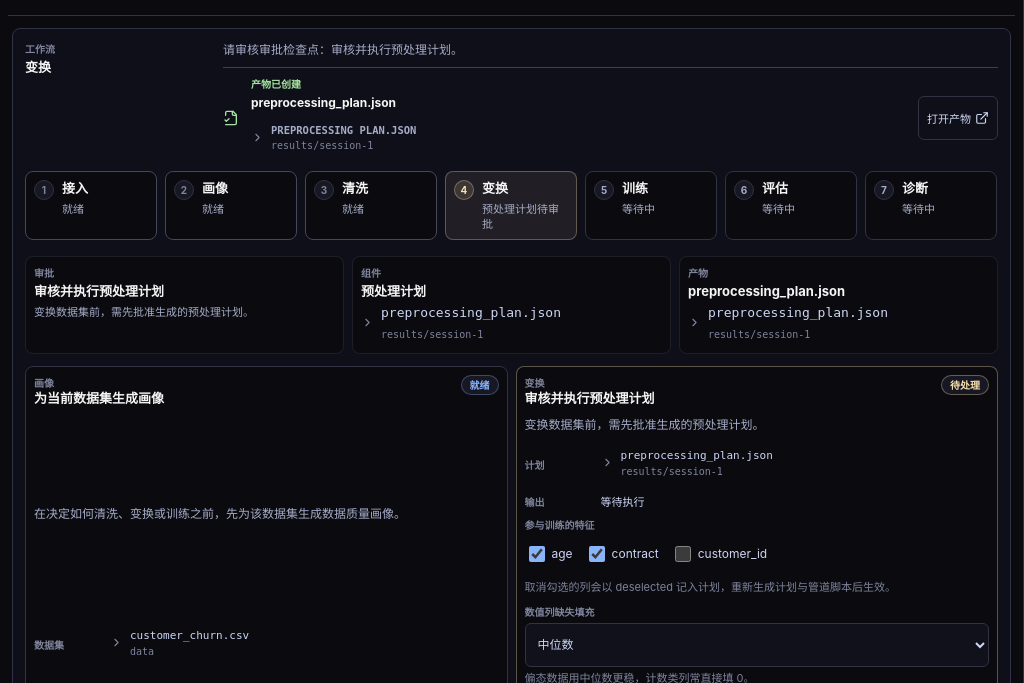
Test case: 预处理计划卡片的特征选择 › 不允许提交空特征集合
Click the checkbox labelled "age".
click(536, 554)  # box top-left (528, 546), bottom-right (544, 562)
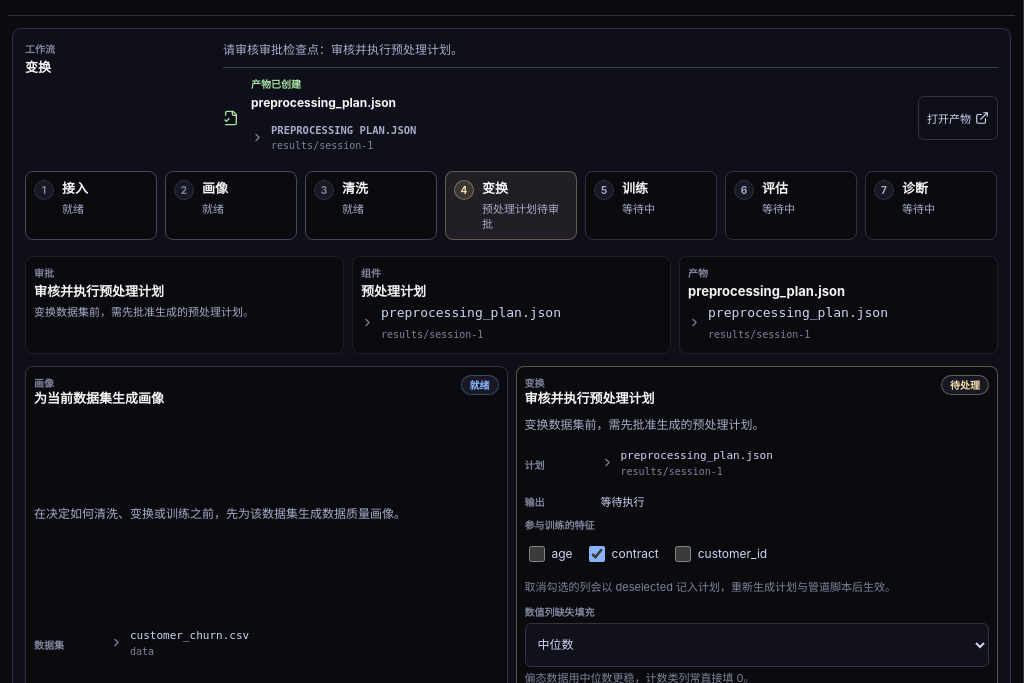
Click the checkbox labelled "contract".
click(597, 554)  # box top-left (589, 546), bottom-right (605, 562)
(page scrolled)
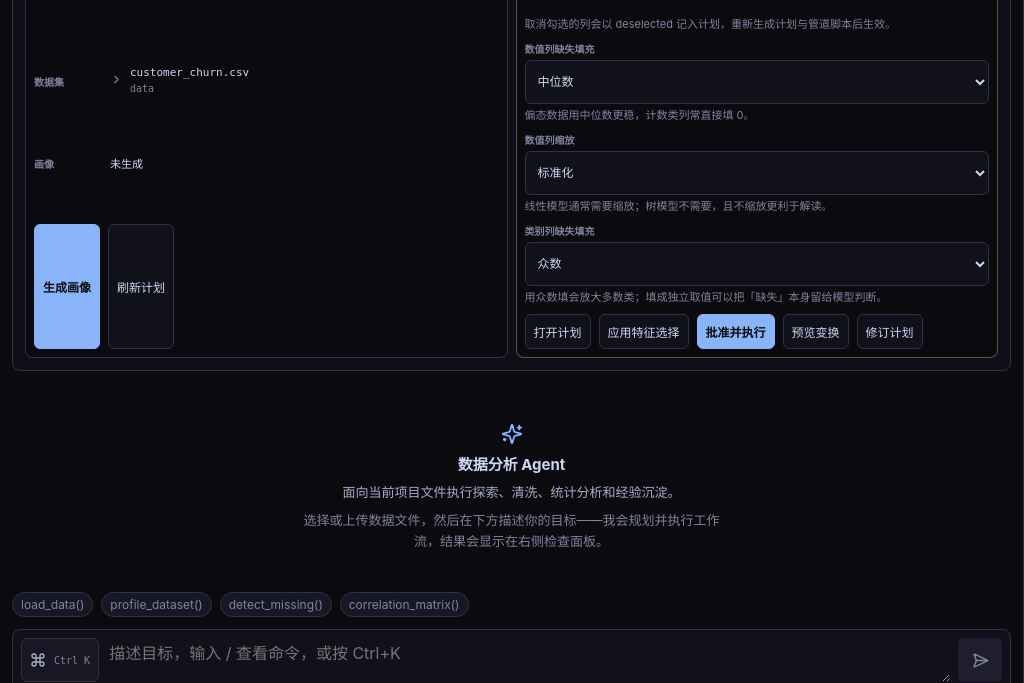
Click the button "应用特征选择".
click(644, 331)  # box top-left (598, 314), bottom-right (688, 349)
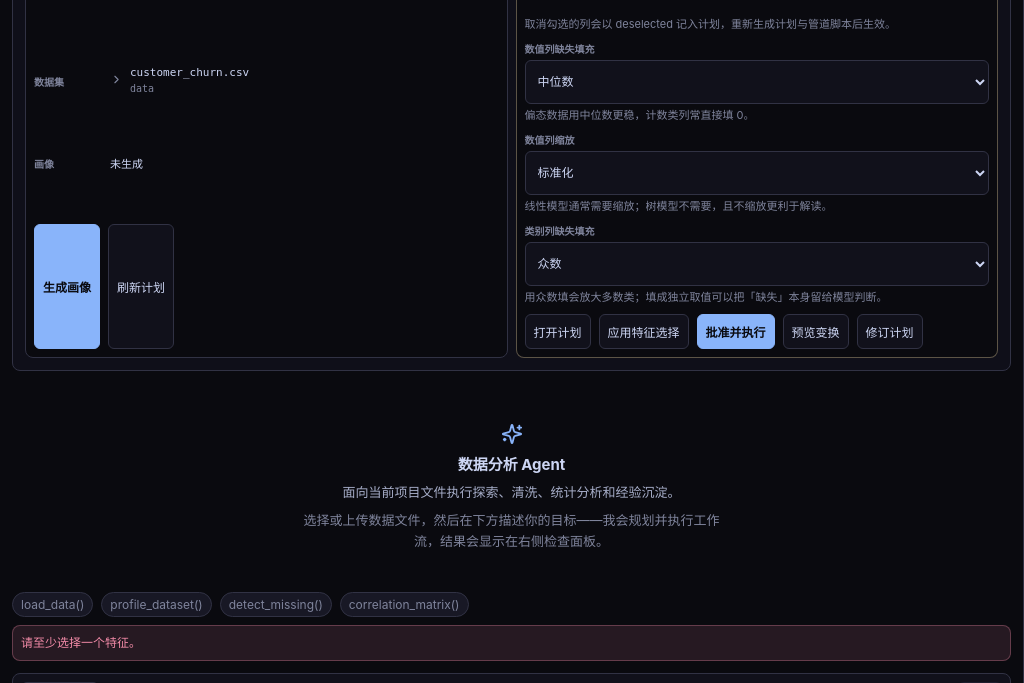
Now the text "请至少选择一个特征。" is shown, box top-left (12, 625), bottom-right (1011, 661)
